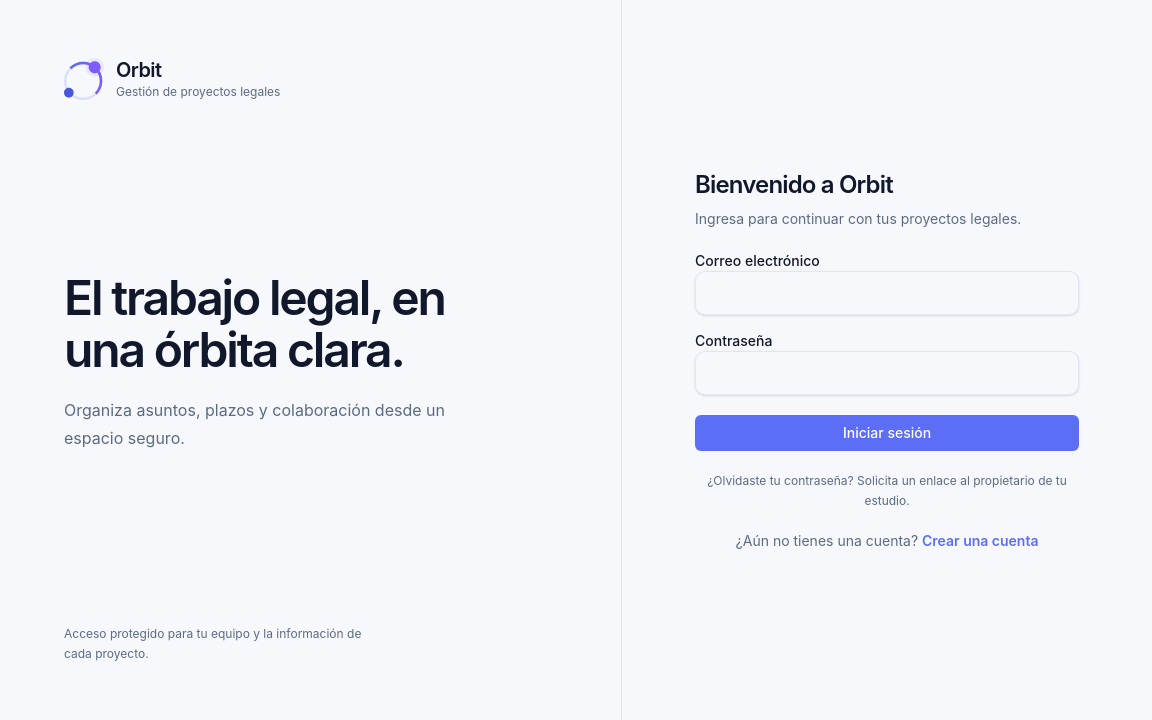
Scenario: AuthShell › renders sign in and lets the user switch to account creation
Expected: the heading "Bienvenido a Orbit" is shown, [695,170,893,199]
Click the button "Crear una cuenta" at {"x": 980, "y": 541}, box [922,531,1038,551]
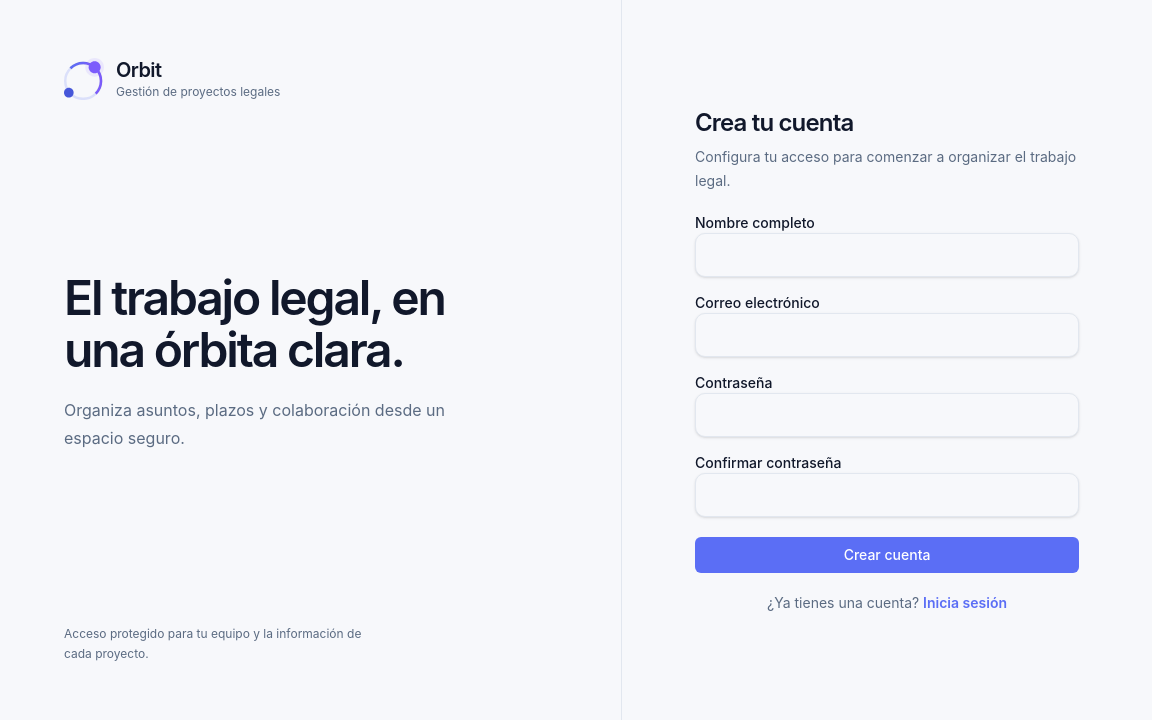
Expected: the heading "Crea tu cuenta" is shown, [695,108,853,137]
